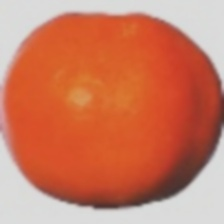tangerine: (39, 30, 192, 189)
